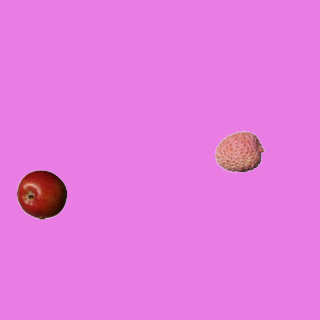Apple Braeburn: (16, 169, 66, 219)
Lychee: (214, 126, 264, 176)
